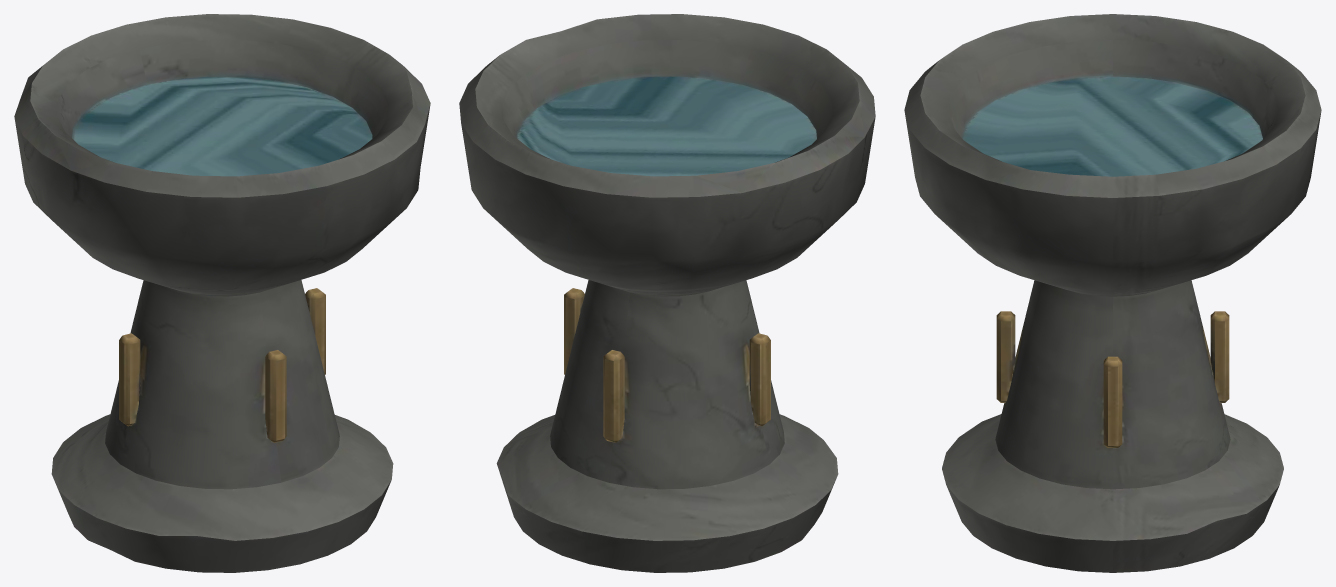
The model's file is holy_font.glb.
3 views of the same model, side by side, from view 1: azimuth 30°, elevation 25°; view 2: azimuth 150°, elevation 25°; view 3: azimuth 270°, elevation 25° (orthographic).
Parts seen in each view (by area): view 1: holy_font; view 2: holy_font; view 3: holy_font.
Part boxes in pixels (x1,y1,x2,y2): holy_font: (14, 14, 430, 572); holy_font: (459, 14, 875, 572); holy_font: (904, 14, 1321, 572).
Size of the model in its own units: 0.78 by 0.85 by 0.78.
1 material, 1 textured.
